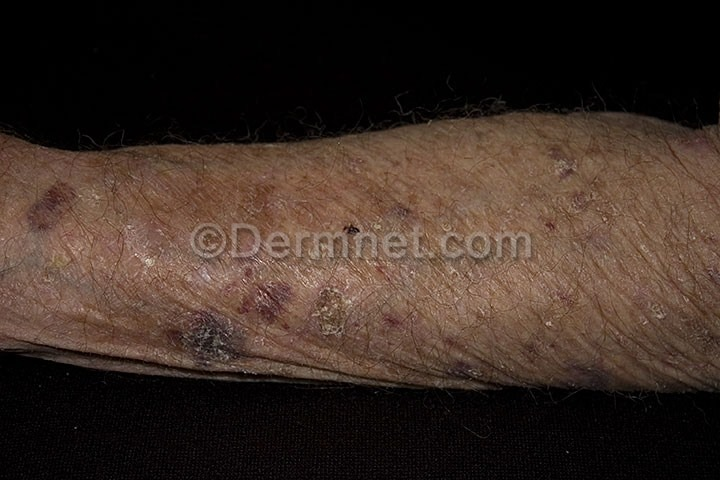Melasma: (6, 268, 720, 375), (2, 133, 714, 227)
